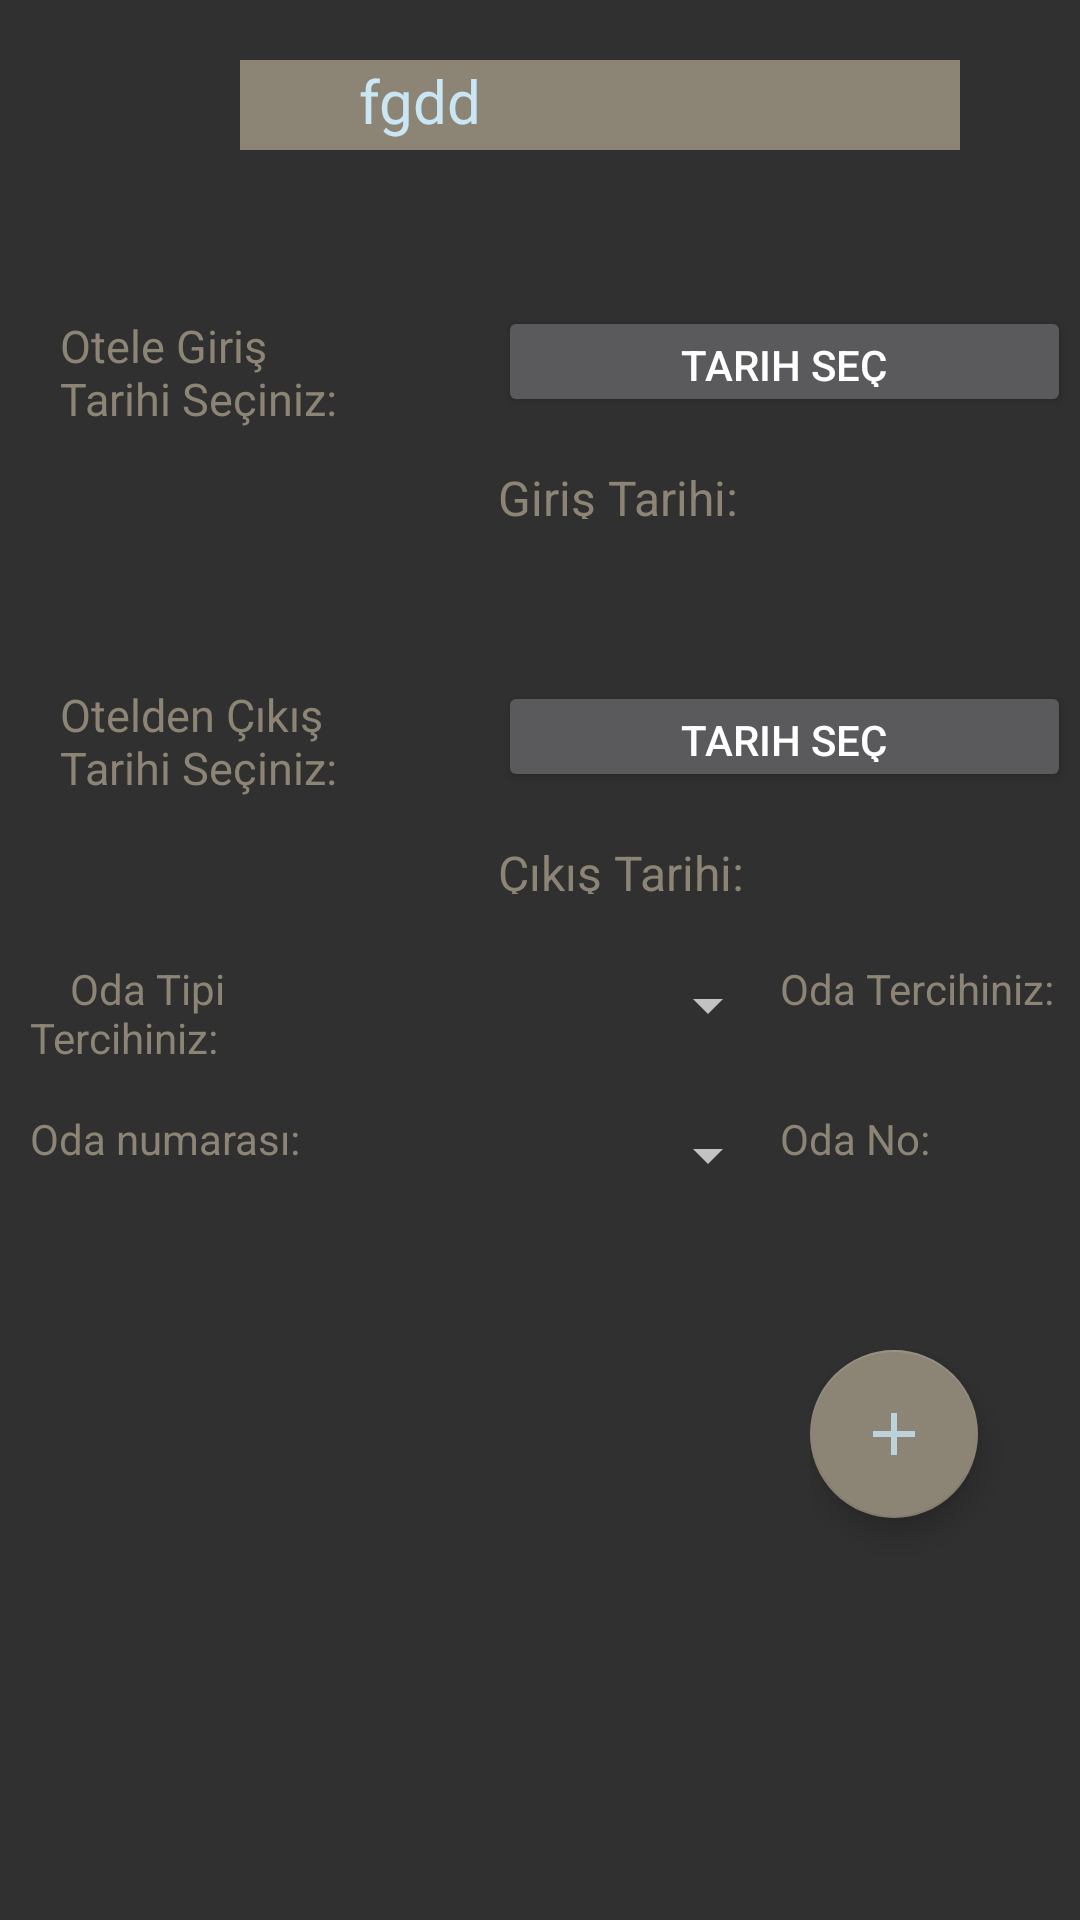

Icons on this 1080*1920 Android screen, each with the point to tap as (x,y):
icplus: (894,1434)
